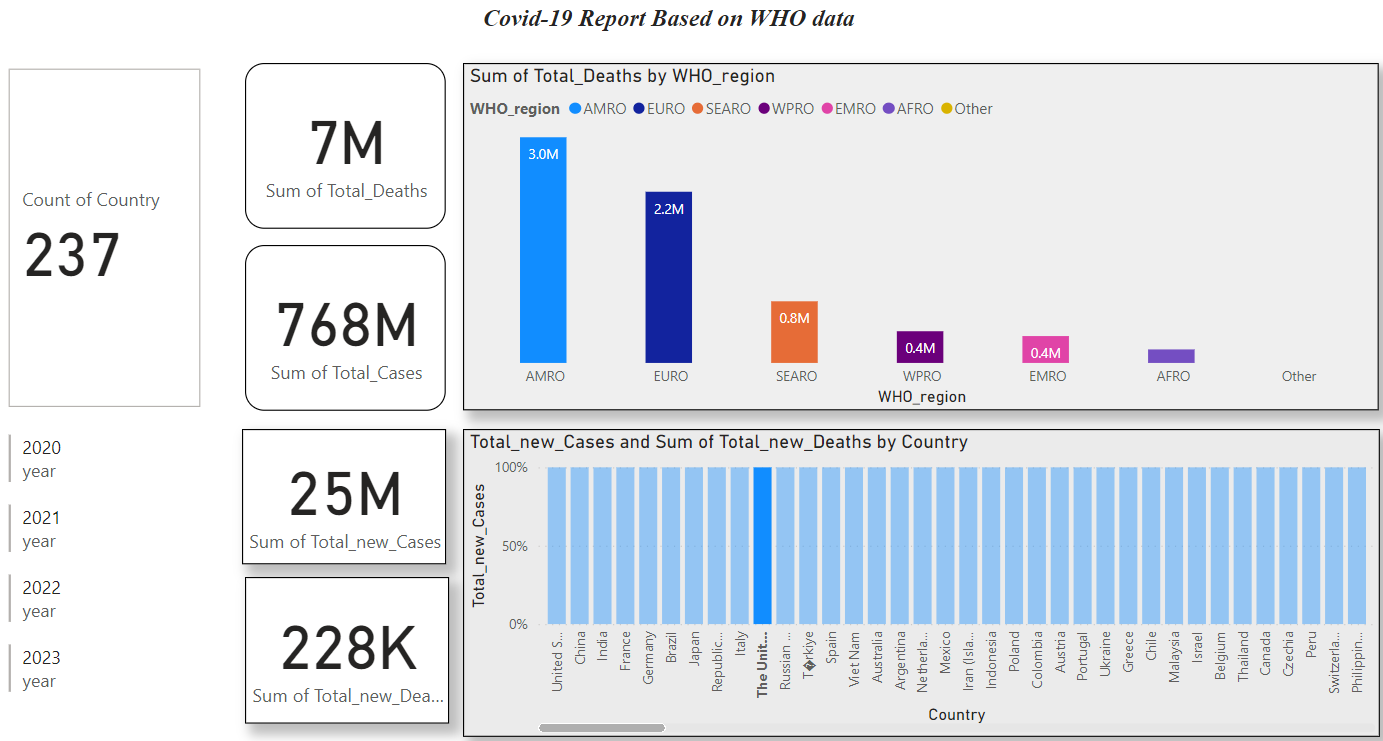

The page's visual inventory and layout, read from the dashboard file:
{"tool":"powerbi","page":{"name":"Page 1","canvas":[1280,720],"ordinal":0},"visuals":[{"type":"ribbonChart","title":"Sum of Total_Deaths by WHO_region","fields":{"Category":["region_base.WHO_region"],"Series":["region_base.WHO_region"],"Y":["Sum(region_base.Total_Deaths)"]},"box":[457.6,69.6,811.7,307.7],"z":0},{"type":"textbox","box":[305.1,12.5,669.9,37.5],"z":1000},{"type":"card","fields":{"Values":["Sum(region_base.Total_Deaths)"]},"box":[264,69.6,178.4,147.2],"z":2000},{"type":"actionButton","box":[0,0,100,40],"z":3000},{"type":"card","fields":{"Values":["Sum(region_base.Total_Cases)"]},"box":[264,230.1,178.4,147.2],"z":4000},{"type":"card","fields":{"Values":["Sum(All.Total_new_Cases)"]},"box":[261.4,393.4,181.1,119.5],"z":5000},{"type":"card","fields":{"Values":["Sum(All.Total_new_Deaths)"]},"box":[264,524.5,181.1,130.2],"z":6000},{"type":"multiRowCard","fields":{"Values":["All.year"]},"box":[50,393.4,180.2,261.4],"z":7000},{"type":"hundredPercentStackedColumnChart","fields":{"Category":["All.Country"],"Y":["Sum(All.Total_new_Cases)"]},"box":[457.6,393.4,812.6,272.9],"z":8000},{"type":"cardVisual","fields":{"Data":["Count(death.Country)"]},"box":[50,69.6,180.2,310.4],"z":9000}]}

Visuals, with their boxes on the page's 1280x720 design canvas (x1, y1, x2, y2). These are canvas units, not pixel positions in the 1383x741 screenshot, which may show the page scaled, cropped or inside an application window:
"Sum of Total_Deaths by WHO_region" ribbonChart: x1=458, y1=70, x2=1269, y2=377
textbox: x1=305, y1=12, x2=975, y2=50
card - Sum(region_base.Total_Deaths): x1=264, y1=70, x2=442, y2=217
actionButton: x1=0, y1=0, x2=100, y2=40
card - Sum(region_base.Total_Cases): x1=264, y1=230, x2=442, y2=377
card - Sum(All.Total_new_Cases): x1=261, y1=393, x2=442, y2=513
card - Sum(All.Total_new_Deaths): x1=264, y1=524, x2=445, y2=655
multiRowCard - All.year: x1=50, y1=393, x2=230, y2=655
hundredPercentStackedColumnChart - All.Country x Sum(All.Total_new_Cases): x1=458, y1=393, x2=1270, y2=666
cardVisual - Count(death.Country): x1=50, y1=70, x2=230, y2=380
